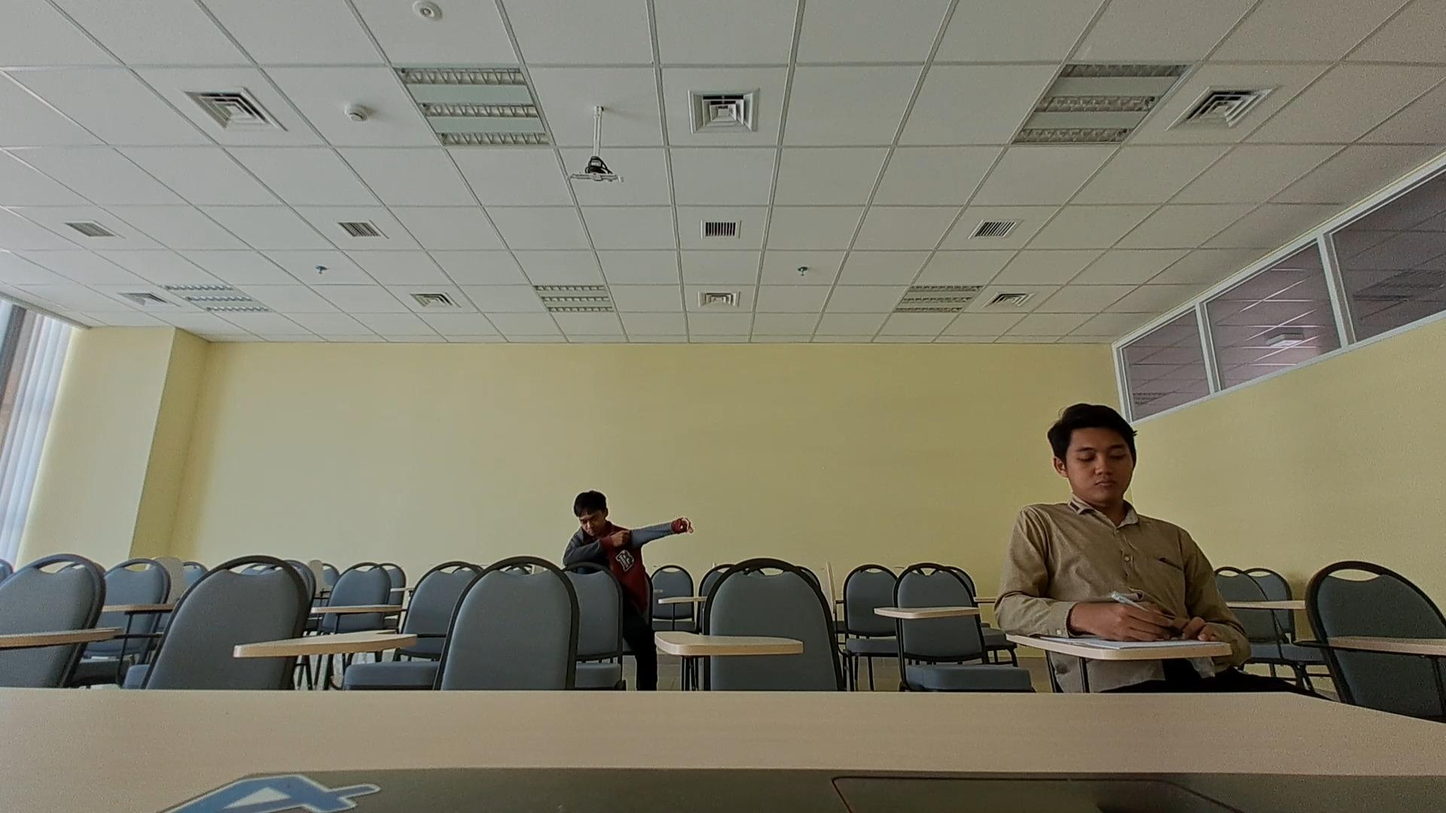study: (993, 403, 1236, 644)
